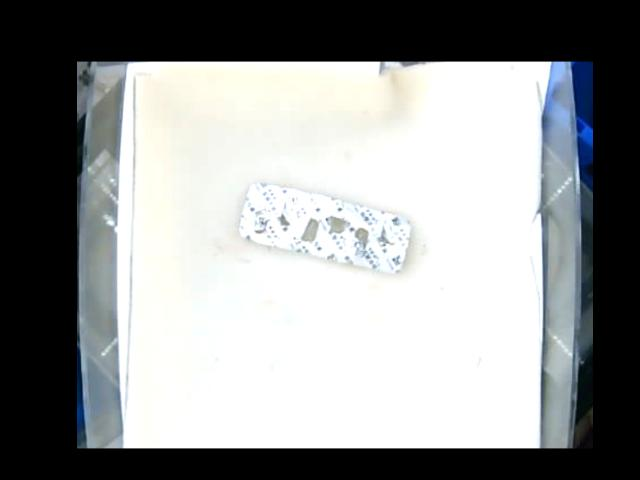Medicine: (239, 181, 413, 273)
